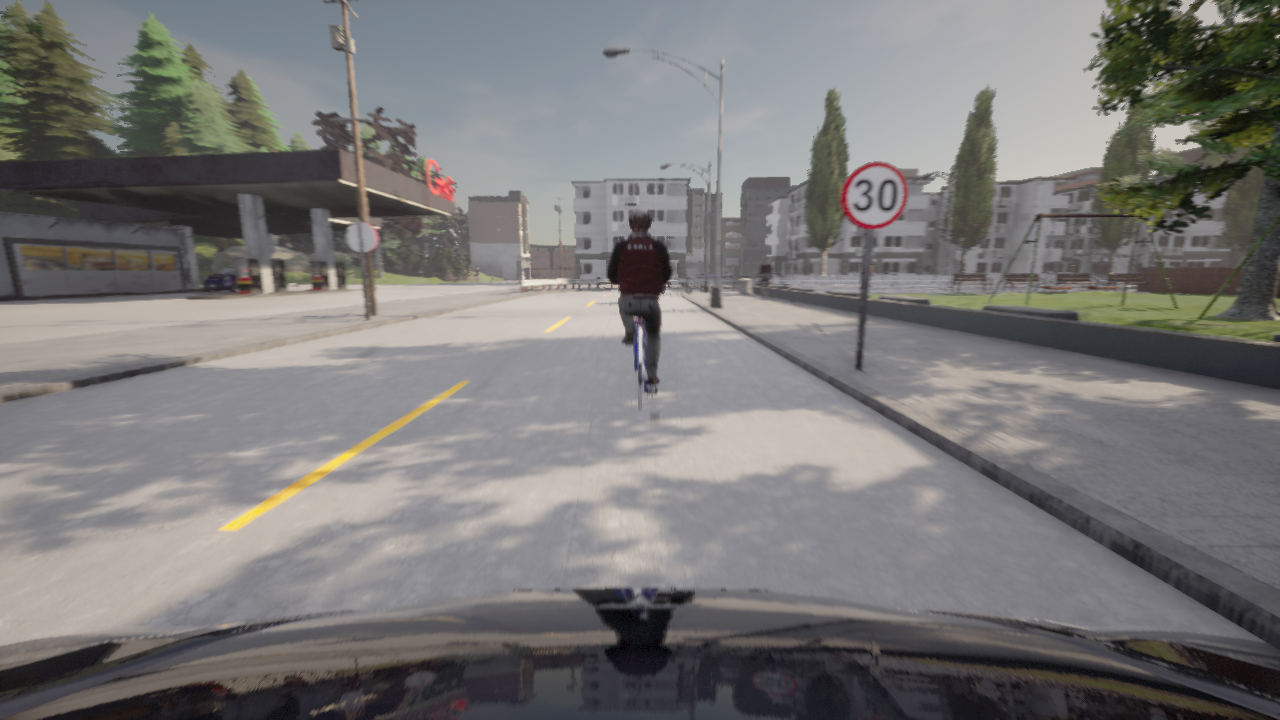cyclist: (0, 588, 1279, 719), (625, 317, 656, 409), (203, 267, 238, 292), (871, 273, 901, 290), (754, 273, 776, 286), (693, 271, 719, 277), (720, 272, 739, 277), (661, 283, 664, 292)
pedestrian: (757, 256, 771, 299), (1045, 272, 1050, 291), (870, 266, 873, 277)
